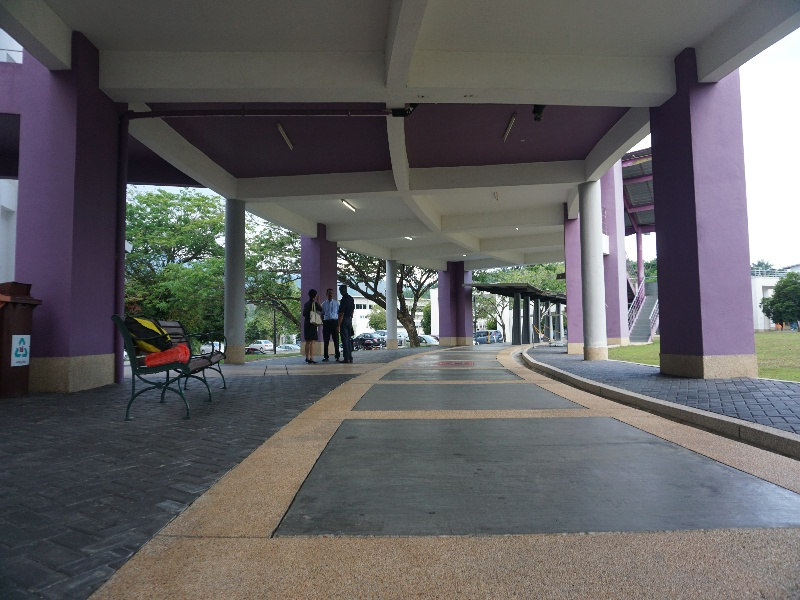Block D Pillar 2: (1, 2, 793, 458)
pillar: (8, 32, 122, 397), (645, 59, 766, 387), (572, 172, 609, 363), (217, 194, 249, 368), (431, 259, 473, 345), (378, 254, 402, 354)
